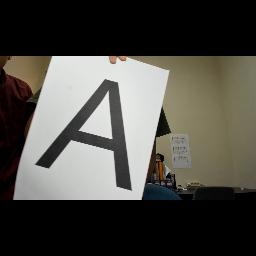a: (30, 70, 144, 198)
